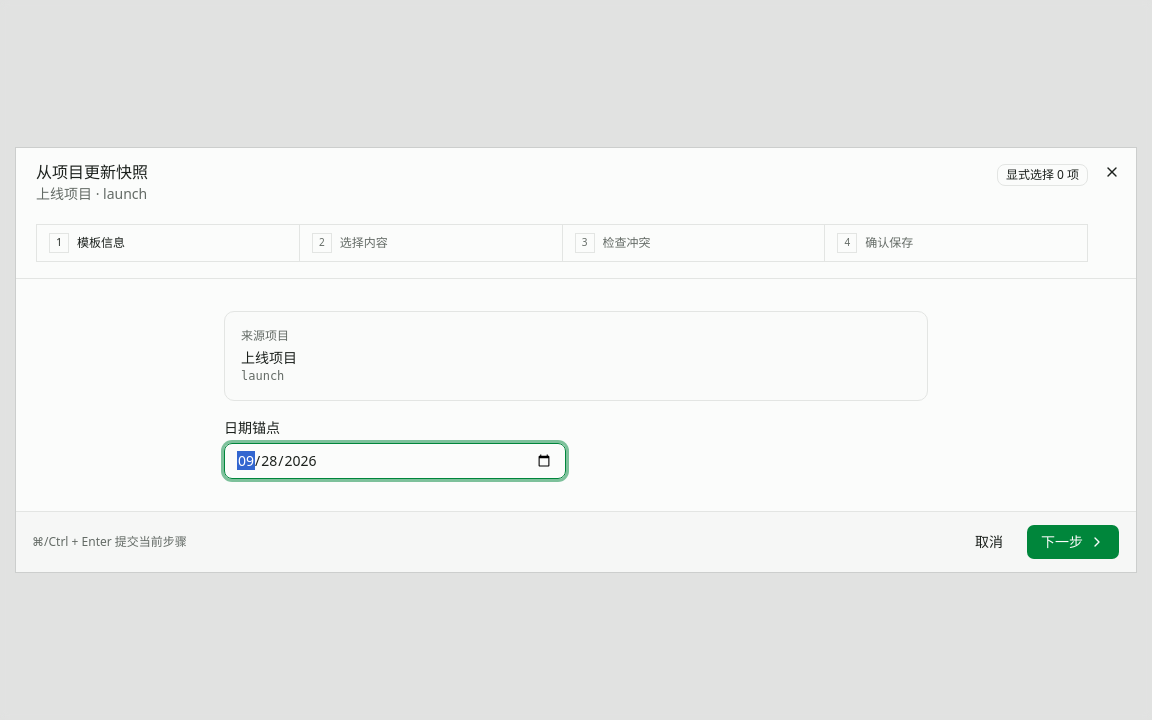
ProjectTemplateCaptureWizard › keeps existing selection when selecting every match exceeds the limit
The width and height of the screenshot is (1152, 720).
Click the button "下一步". click: click(1073, 542)
box: [1026, 524, 1120, 560]
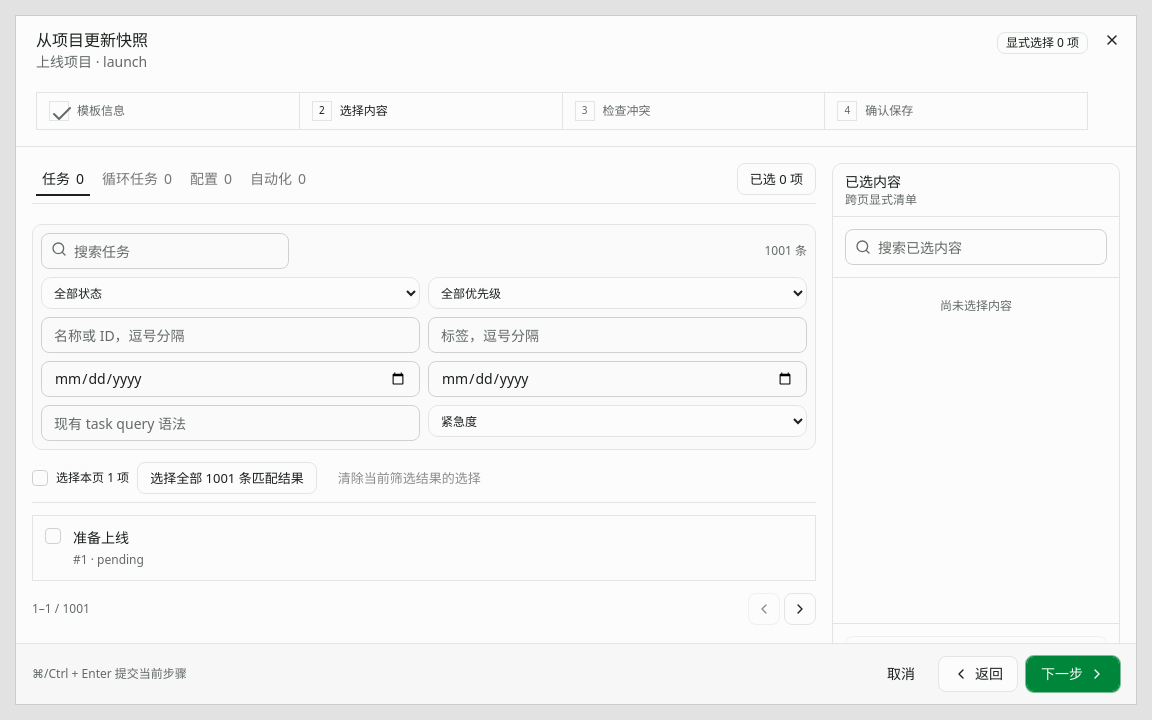
Expected: the tab "任务 0" is shown, [35, 166, 91, 192]
Click the checkbox named "准备上线". click: click(53, 536)
box: [45, 528, 61, 544]
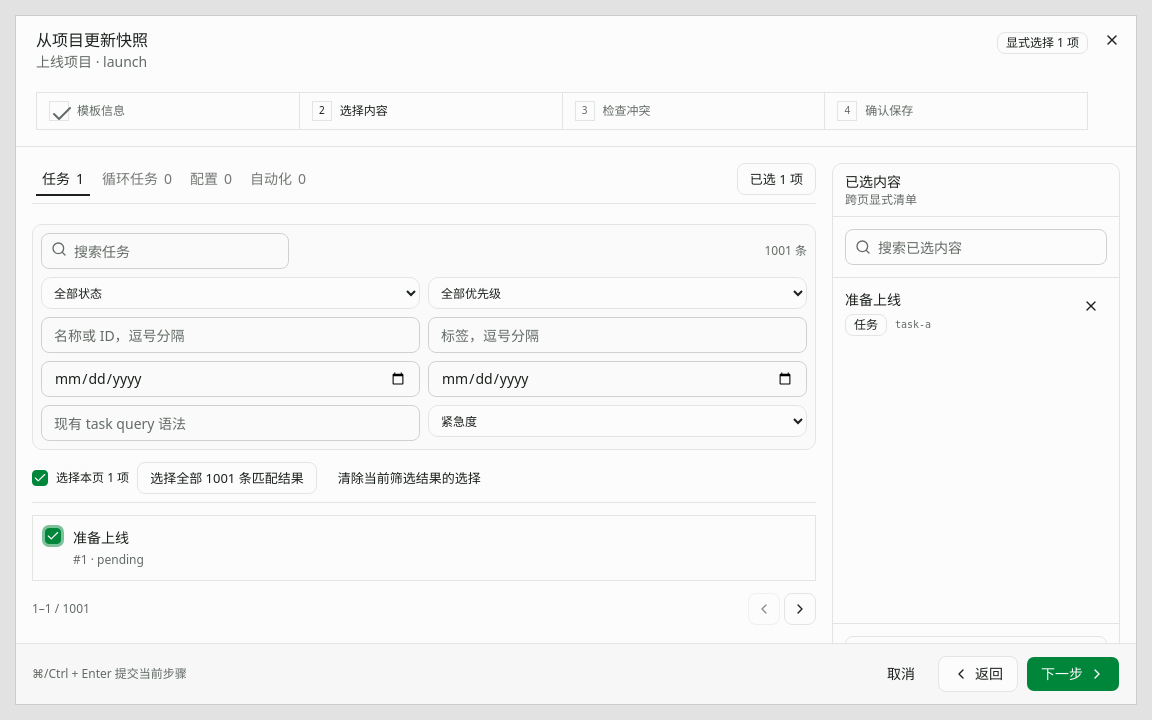
Click the button "选择全部 1001 条匹配结果". click: click(227, 478)
box: [137, 462, 317, 494]
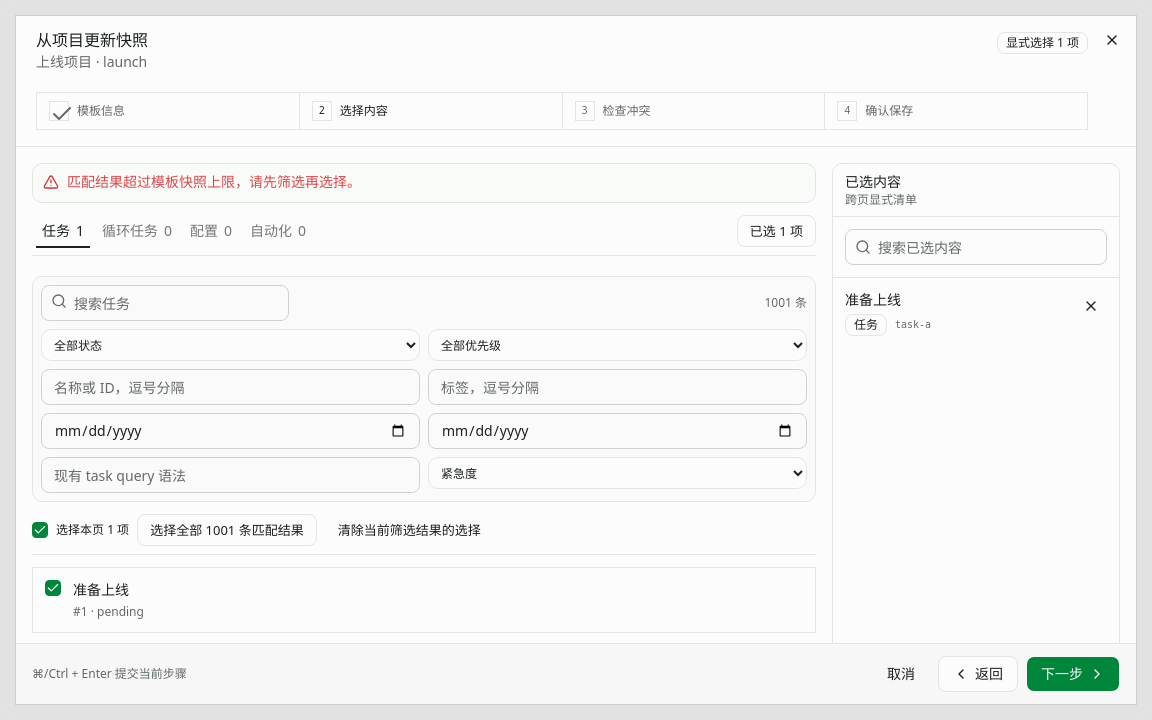
Expected: the button "已选 1 项" is shown, [737, 215, 816, 247]
Expected: the text "匹配结果超过模板快照上限，请先筛选再选择。" is shown, [67, 172, 361, 191]
